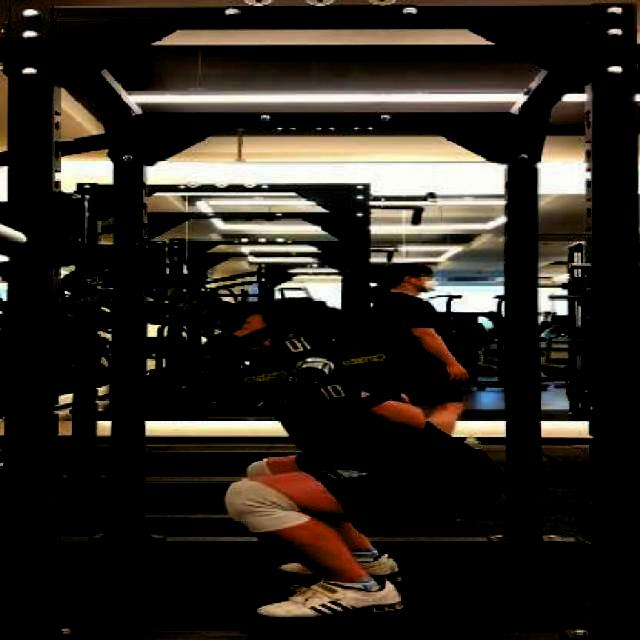barbell: (222, 315, 417, 425)
